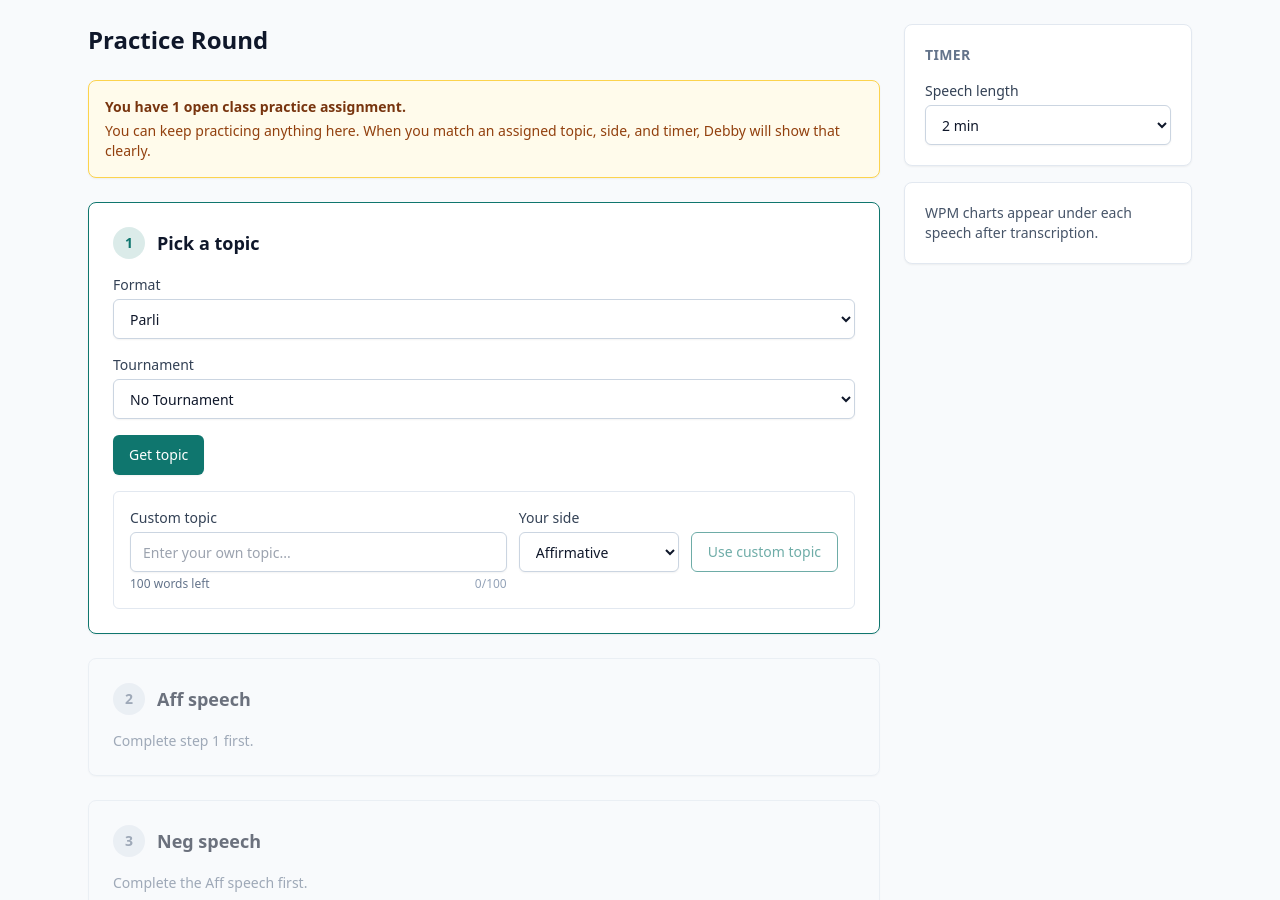
Test: RoundRunner › shows a matching practice assignment banner without locking standalone practice
Type "Resolved: Cities should ban private cars" into the field labelled "Custom topic 100 words left 0/100" at (318, 552), box top-left (130, 532), bottom-right (507, 572)
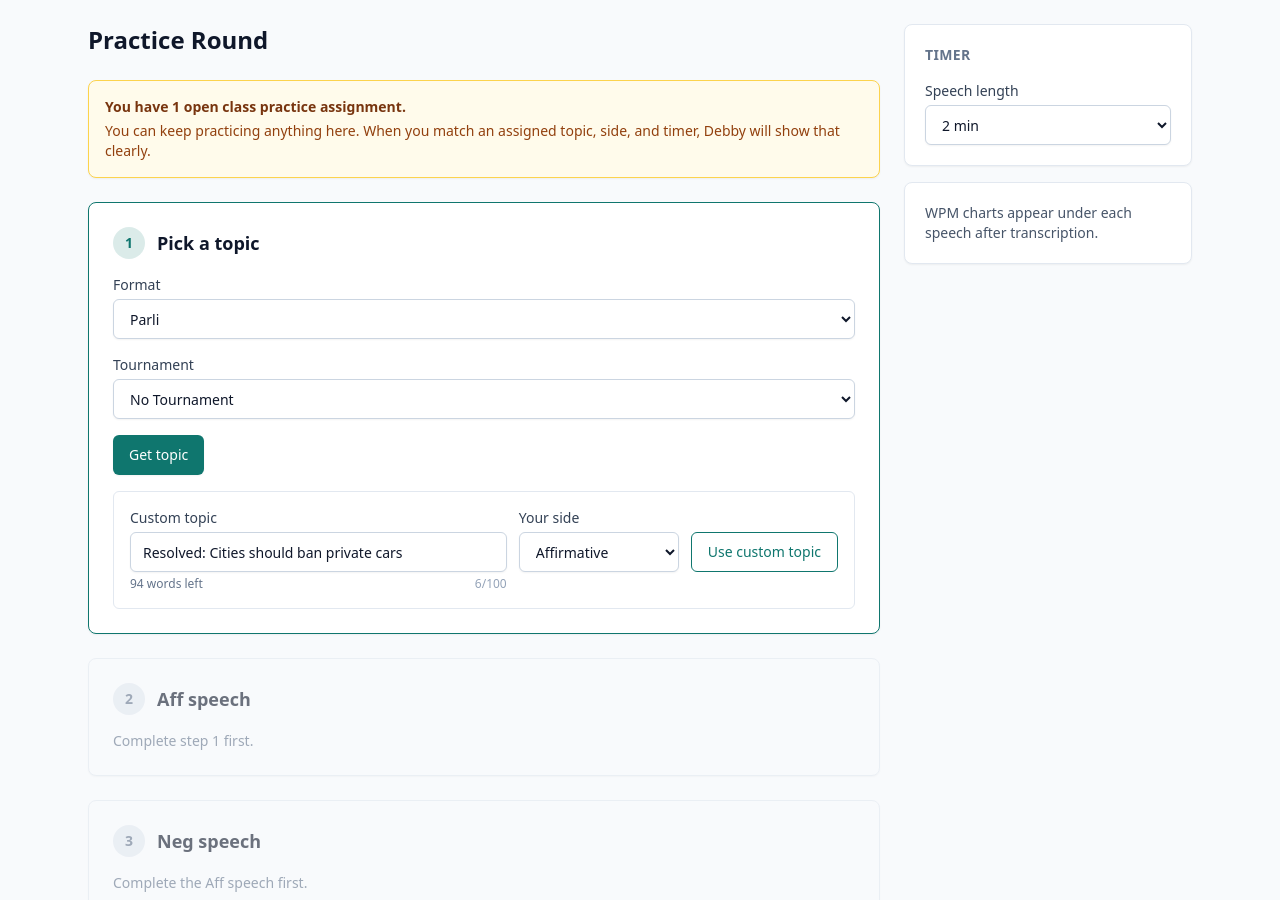
Select "Negative" in the dropdown named "custom side" at (599, 552), box top-left (519, 532), bottom-right (679, 572)
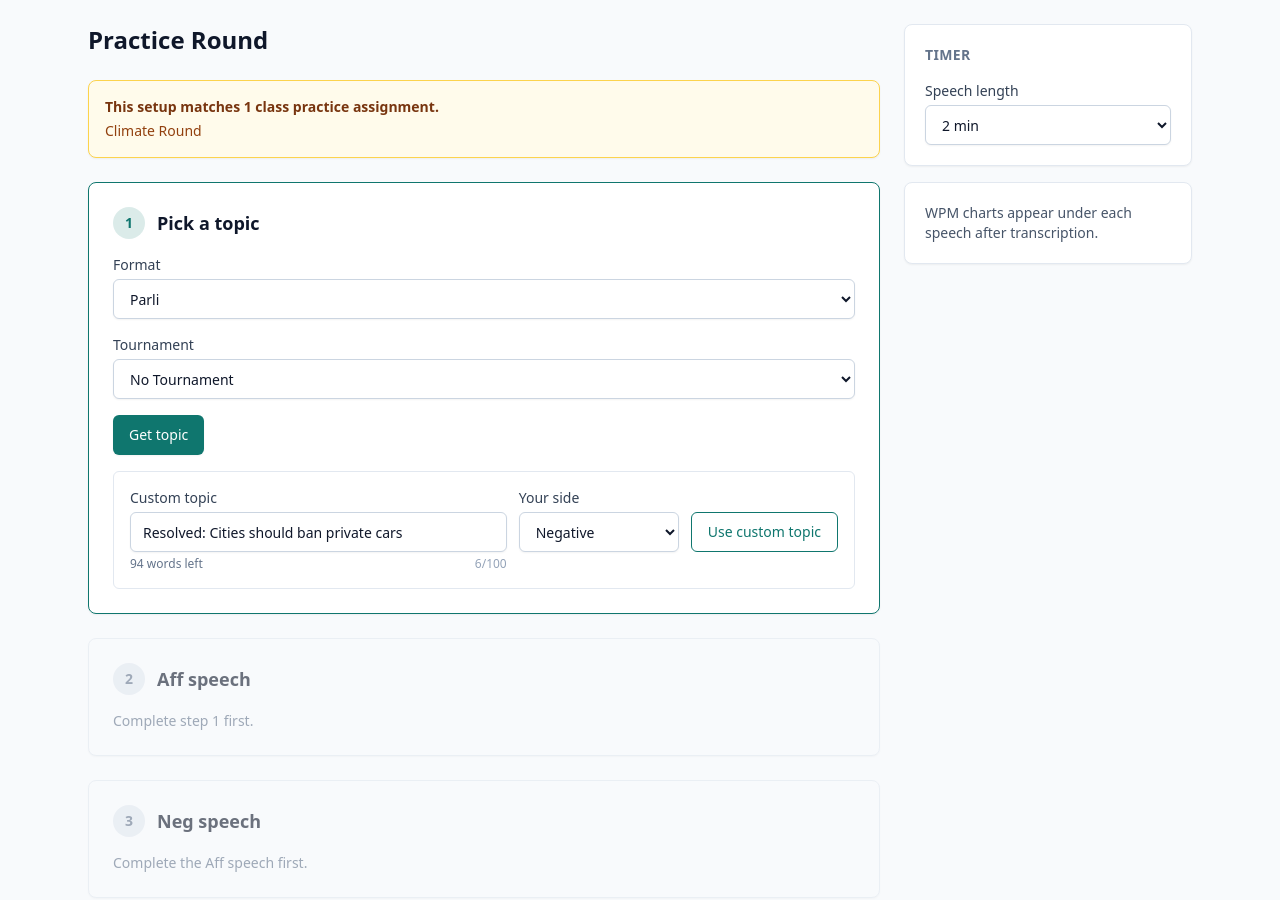
Expected: the button "Use custom topic" is enabled, top-left (691, 512), bottom-right (838, 552)
Expected: the text "This setup matches 1 class practice assignment." is shown, top-left (105, 97), bottom-right (439, 116)
